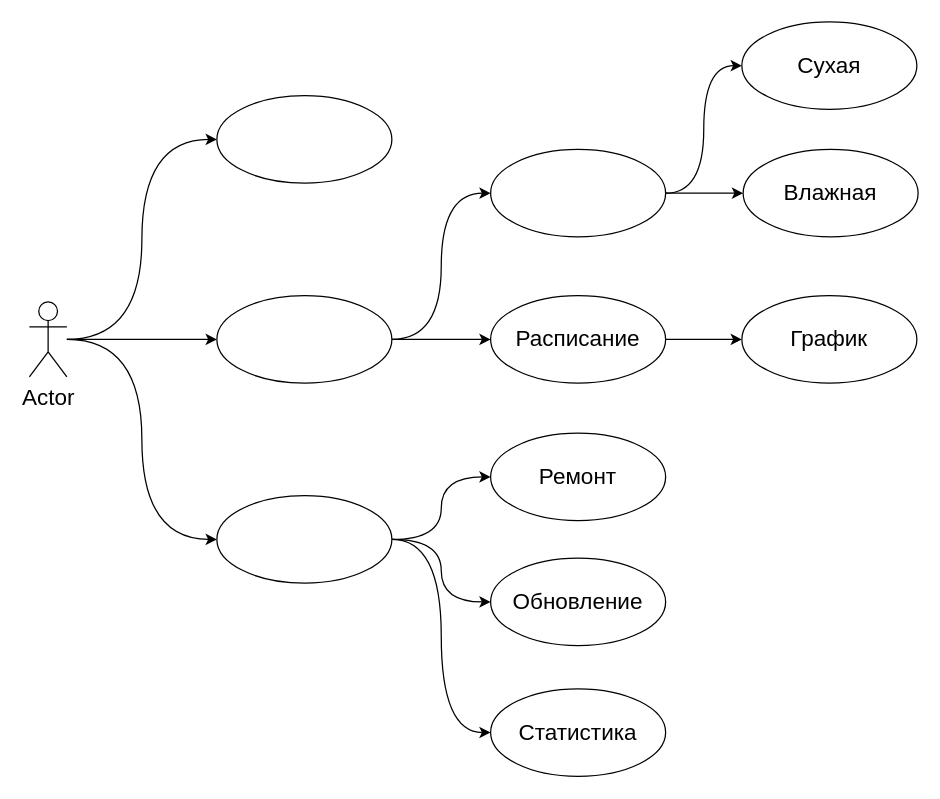
Some shapes in this 940 by 799 pixel diagram are drawn without their labels. Each missing label, with the centre of its shape:
"Обслуживание" belongs at [304,538].
"Подключение" belongs at [304,138].
"Режим уборки" belongs at [577,192].
"Уборка" belongs at [304,338].
